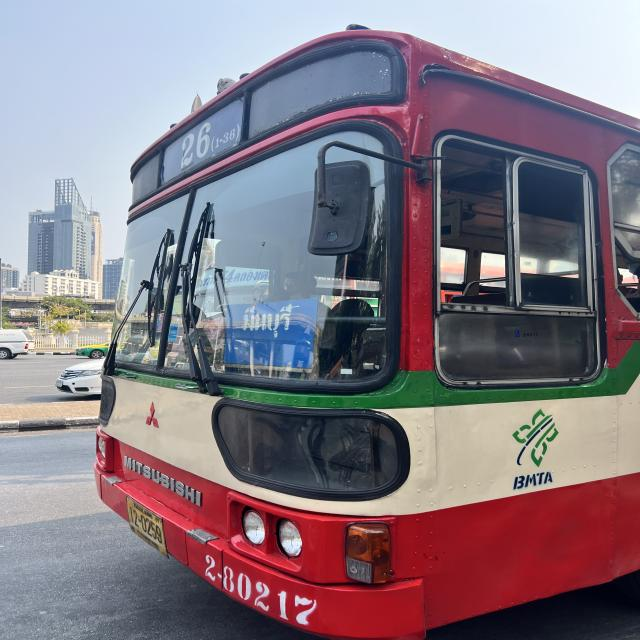BMTA-bus: (93, 25, 640, 640)
Bus-Line-Number: (163, 94, 244, 184)
Destination-Sign-Normal: (220, 297, 321, 370)
